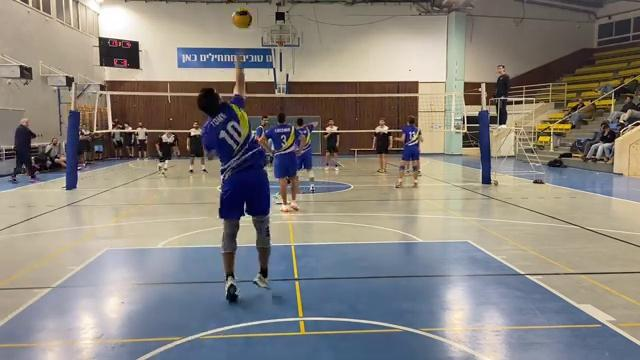ball: (221, 4, 261, 31)
